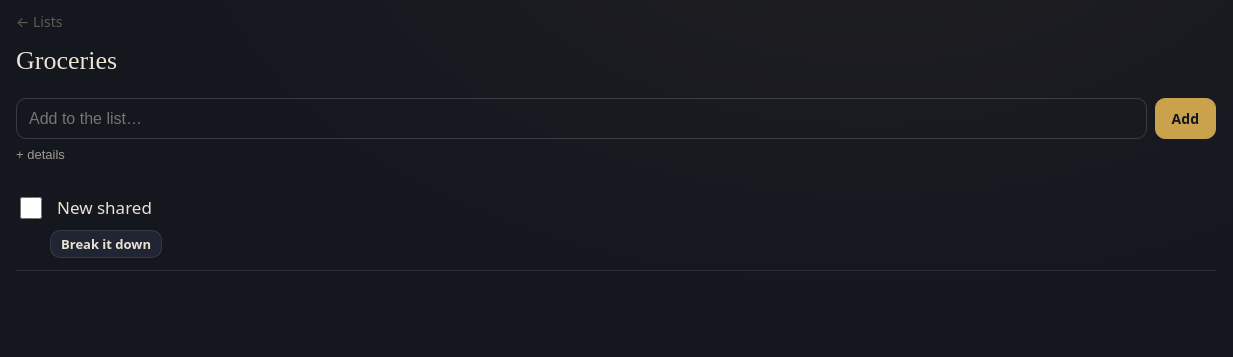
it: list detail — optimistic complete, rollback, breakdown polling › rolls back the optimistic flip and shows an error when the commit fails
Expected: the text "New shared" is shown, x1=57 y1=195 x2=152 y2=221
Click the checkbox named "Complete New shared". click: (31, 208)
box: x1=20 y1=197 x2=42 y2=219
Wait 5000 ms
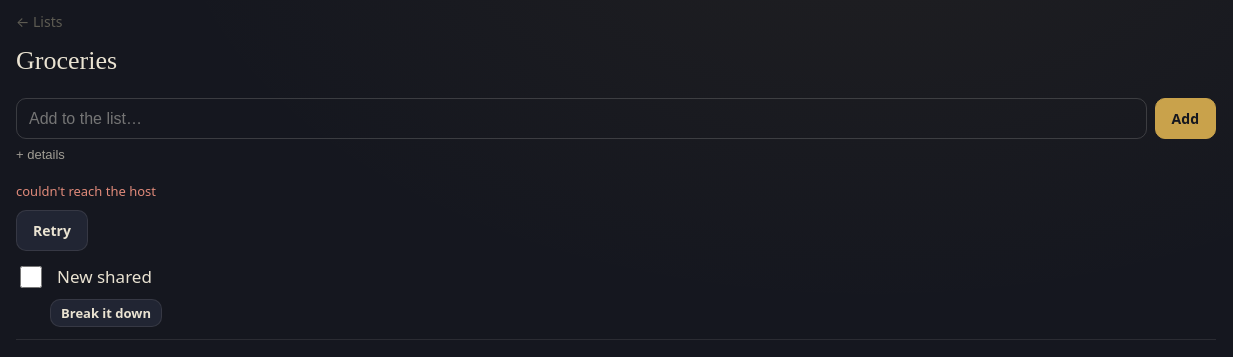
Expected: the checkbox named "Complete New shared" is not checked, x1=20 y1=266 x2=42 y2=288
Now the text "couldn't reach the host" is shown, box x1=16 y1=182 x2=156 y2=200
